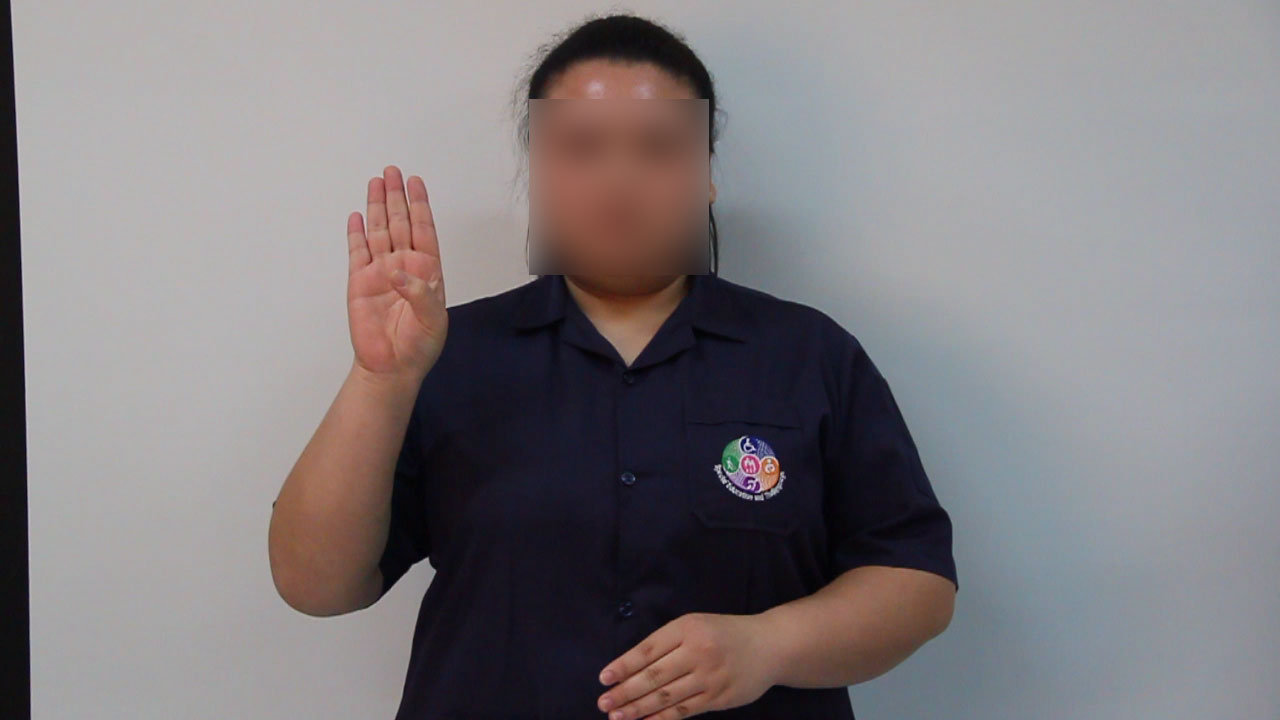bor: (317, 153, 462, 402)
